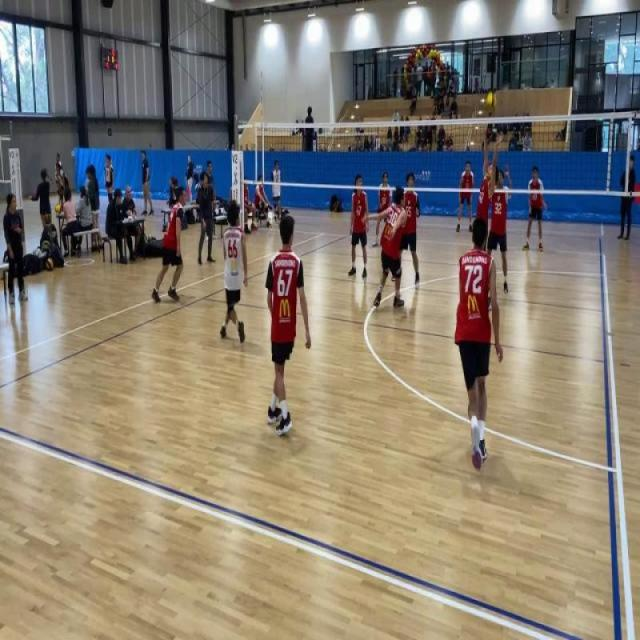volleyball: (486, 90, 498, 110), (46, 257, 54, 272), (54, 202, 62, 214), (148, 233, 152, 240)
